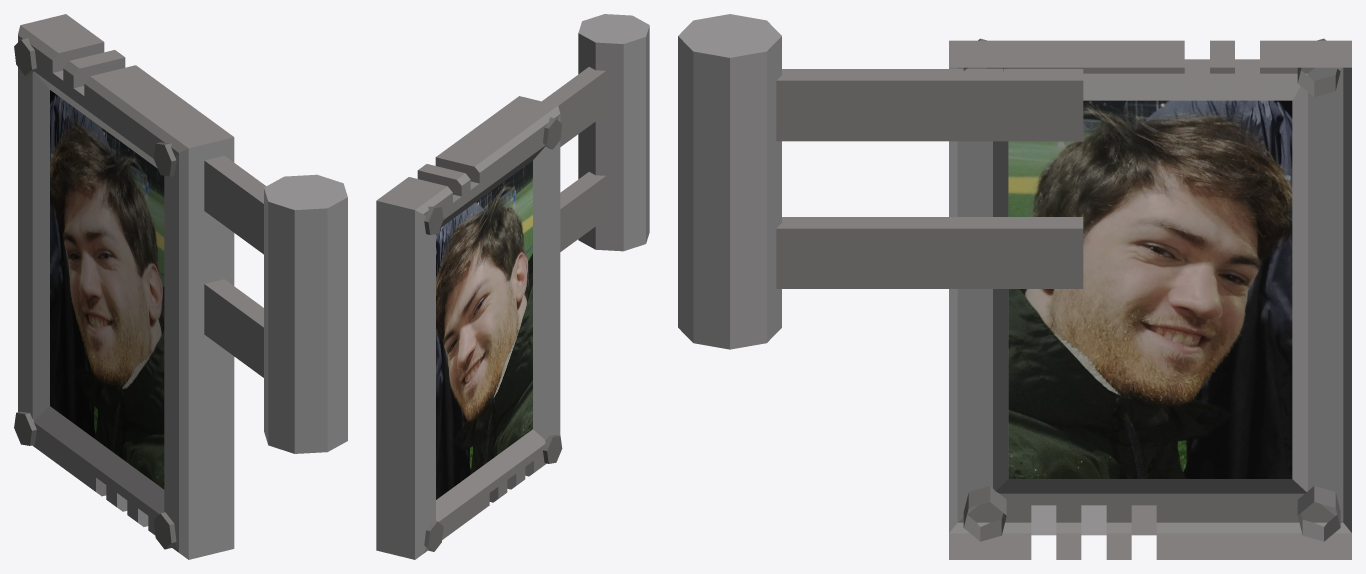
The model's file is Taak_portrait.glb.
3 views of the same model, side by side, from view 1: azimuth 30°, elevation 25°; view 2: azimuth 150°, elevation 25°; view 3: azimuth 270°, elevation 25° (orthographic). The views are drawn at different scales.
Visible parts, largest first — view 1: Cube; view 2: Cube; view 3: Cube.
Part boxes in pixels (left/top/right/bottom): Cube: left=14, top=14, right=347, bottom=559; Cube: left=376, top=14, right=649, bottom=559; Cube: left=678, top=14, right=1351, bottom=559.
Size of the model in its own units: 0.498 by 2.71 by 3.23.
1 material, 1 textured.
